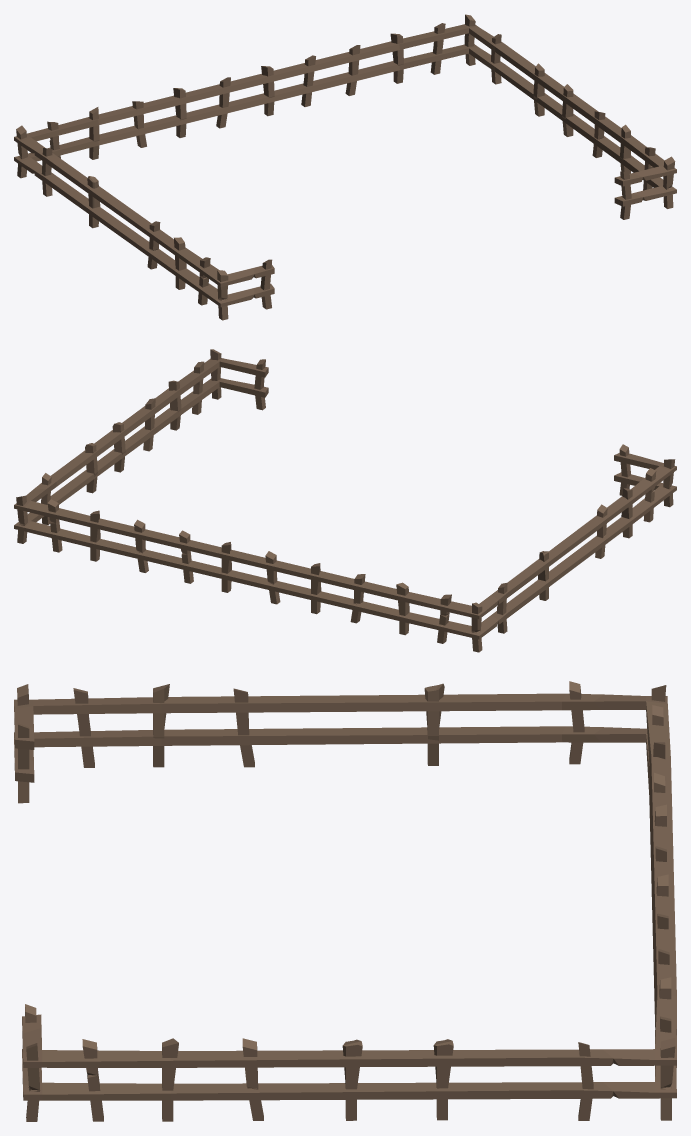
File: Fence_2.fbx
3 renders of one model, top to bottom at view 1: azimuth 30°, elevation 25°; view 2: azimuth 150°, elevation 25°; view 3: azimuth 270°, elevation 25°, orthographic. The views are drawn at different scales.
Visible parts, largest first — view 1: Fence_2; view 2: Fence_2; view 3: Fence_2.
Part boxes in pixels (x1=…): Fence_2: x1=14, y1=14, x2=676, y2=320; Fence_2: x1=14, y1=349, x2=676, y2=652; Fence_2: x1=14, y1=681, x2=676, y2=1121.
Bounding box in the file's own units: 1051 × 804 × 105.
